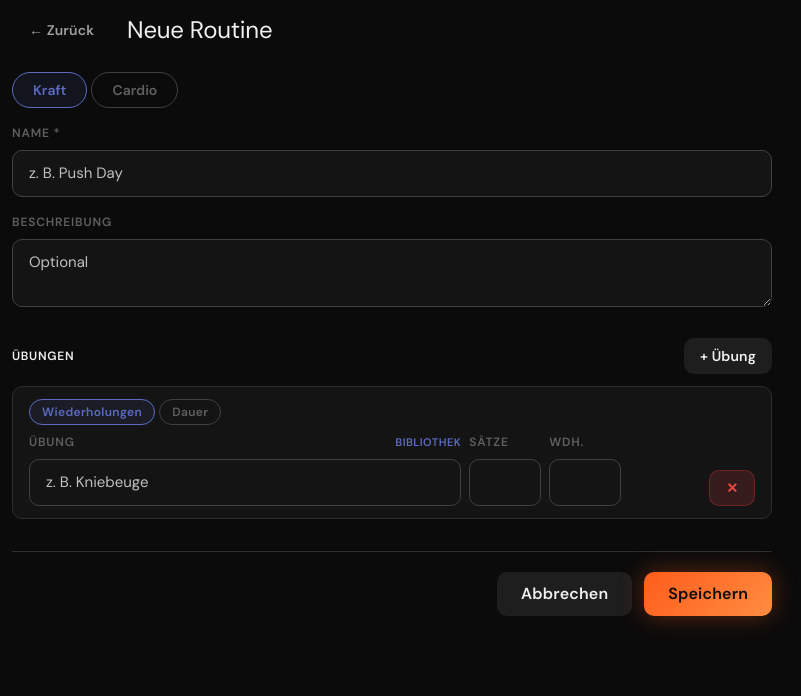
Test: RoutineForm – validation › shows name error when submitting empty name
Click the button "Speichern". click: (708, 594)
box: left=644, top=572, right=772, bottom=616
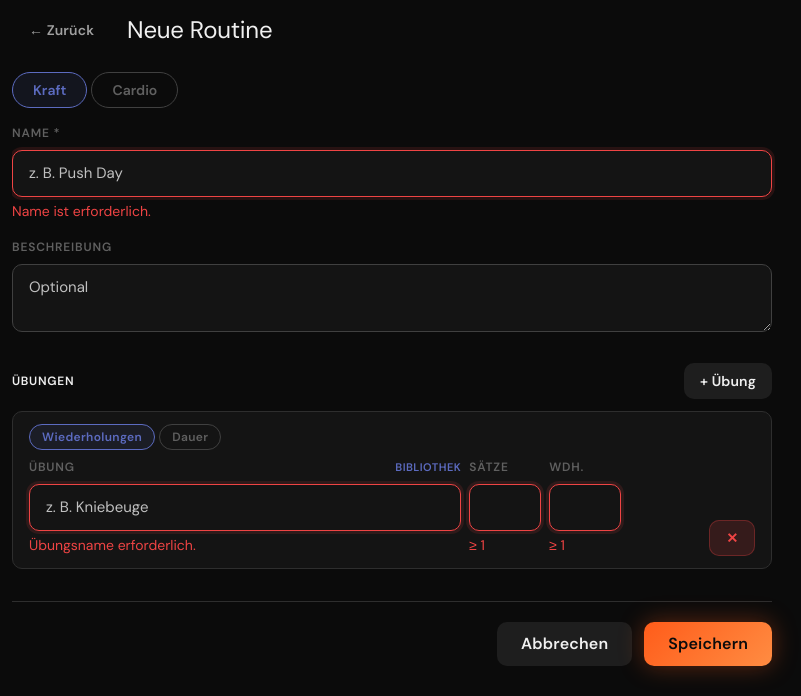
expect the text "Name ist erforderlich." is shown: met, box left=12, top=202, right=151, bottom=220
